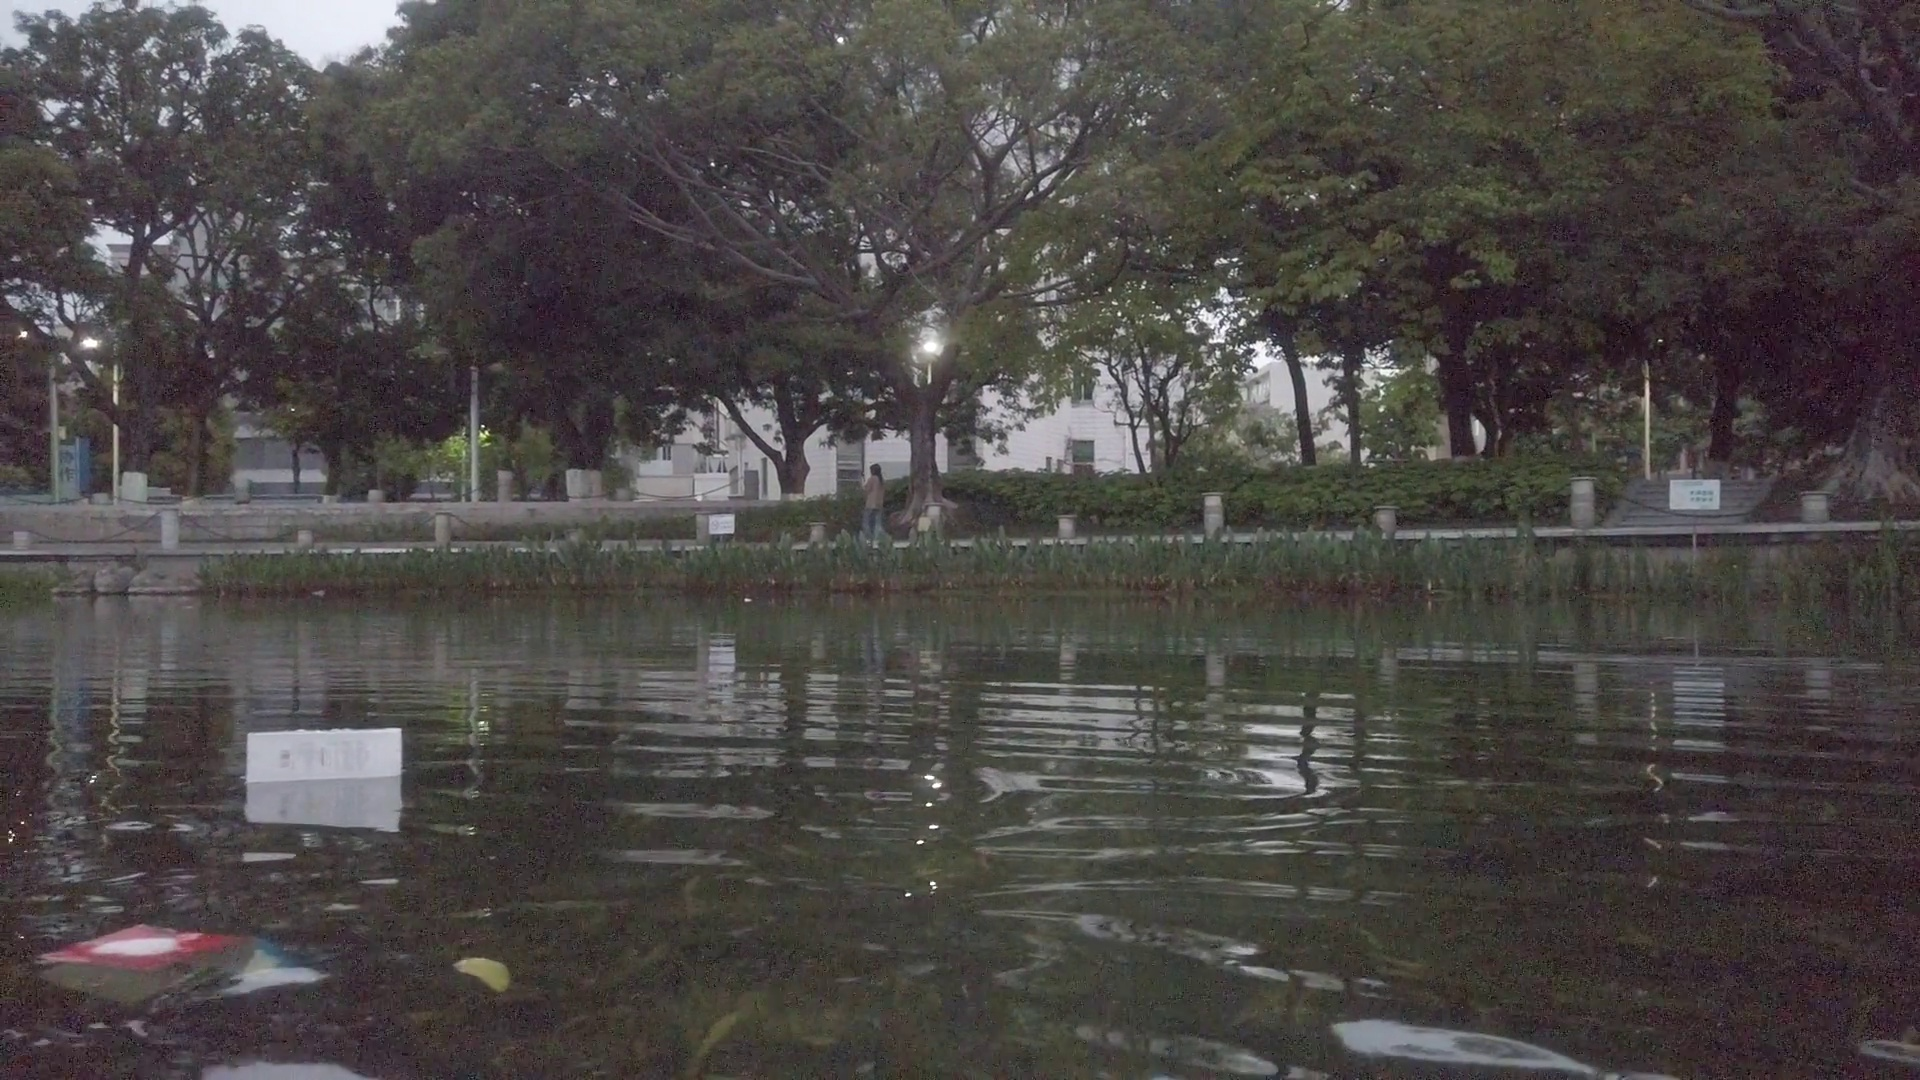carton: (247, 728, 407, 783)
paper: (51, 910, 289, 1001)
